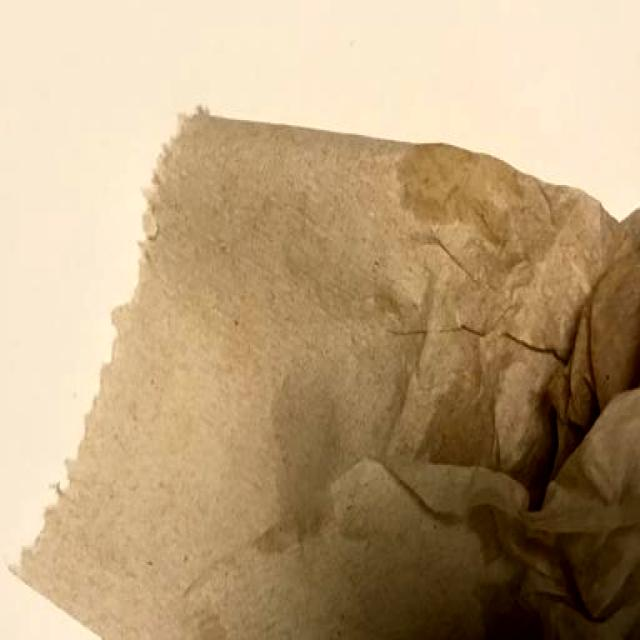Trash: (8, 111, 640, 640)
